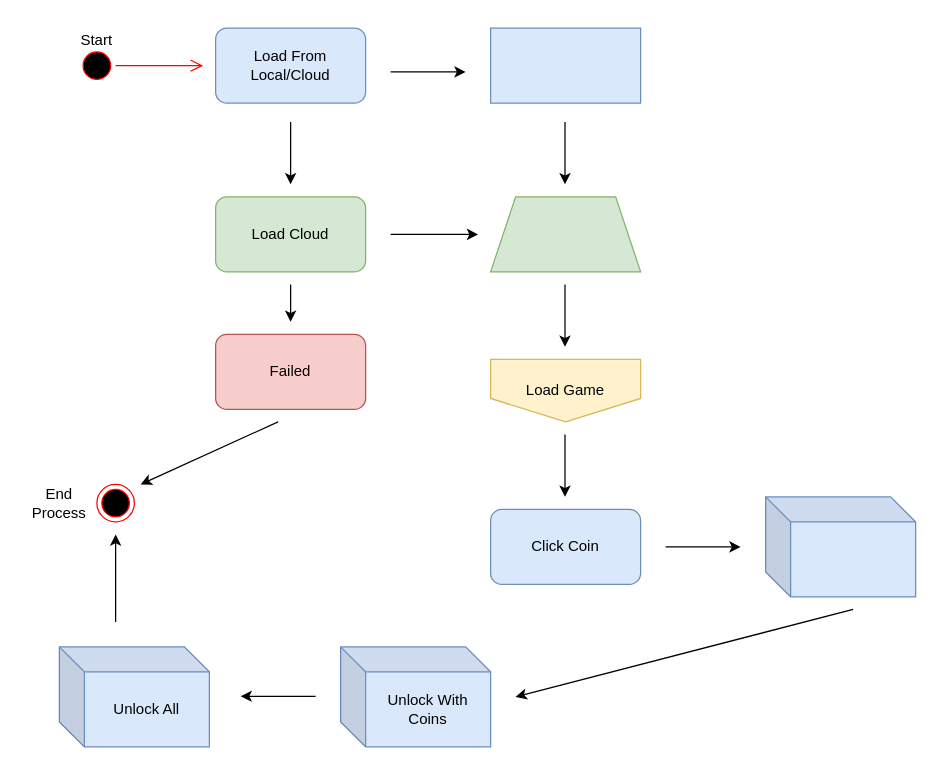
Some shapes in this 938 by 769 pixel diagram are drawn without their labels. The shapes that lost their labels are listed below. From the top down, each one's centre as x and y in pixels, then its label:
pixel 565 65: Load Local
pixel 565 234: Success
pixel 840 546: Upgrade Level
